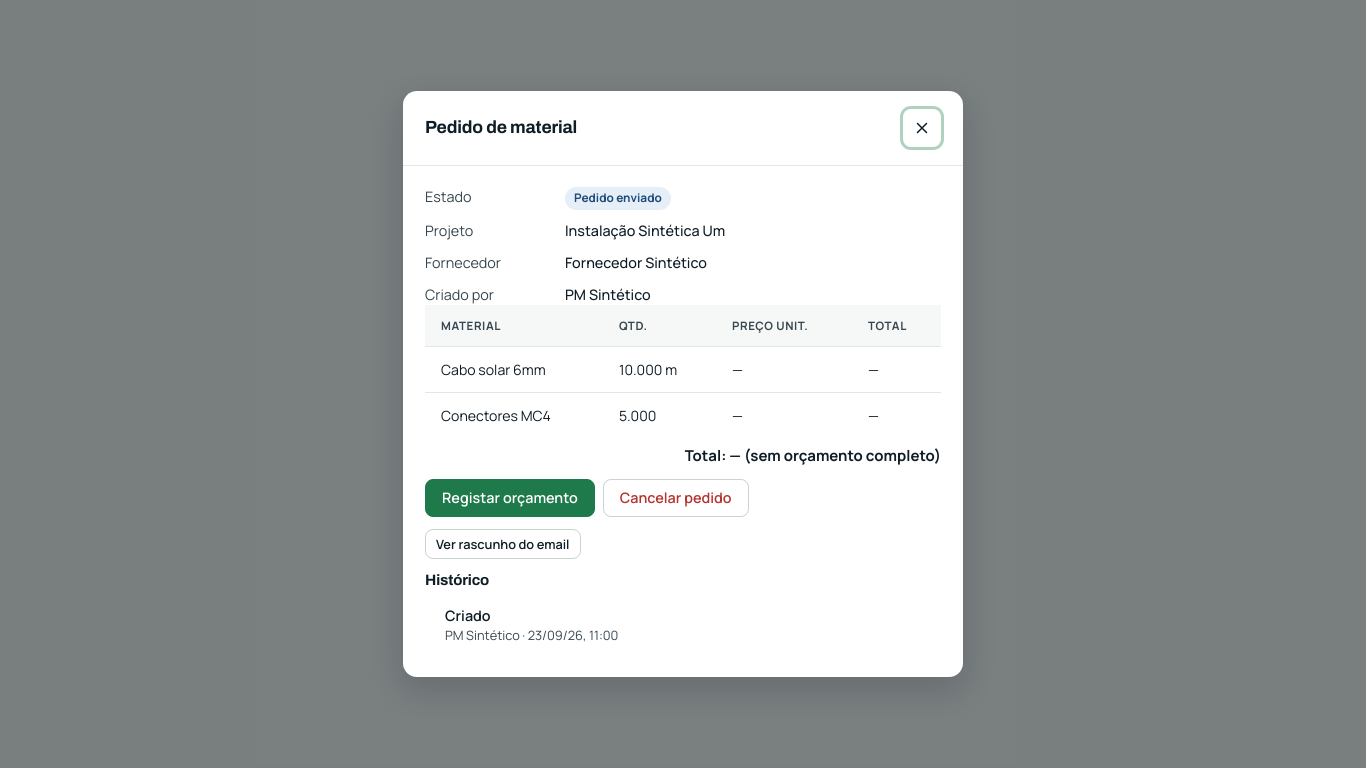
Detalhe do pedido de material › mostra a mensagem do servidor quando a ação é recusada e não muda o estado apresentado
Click the button "Registar orçamento" at x=510, y=498, box x1=425 y1=479 x2=595 y2=517
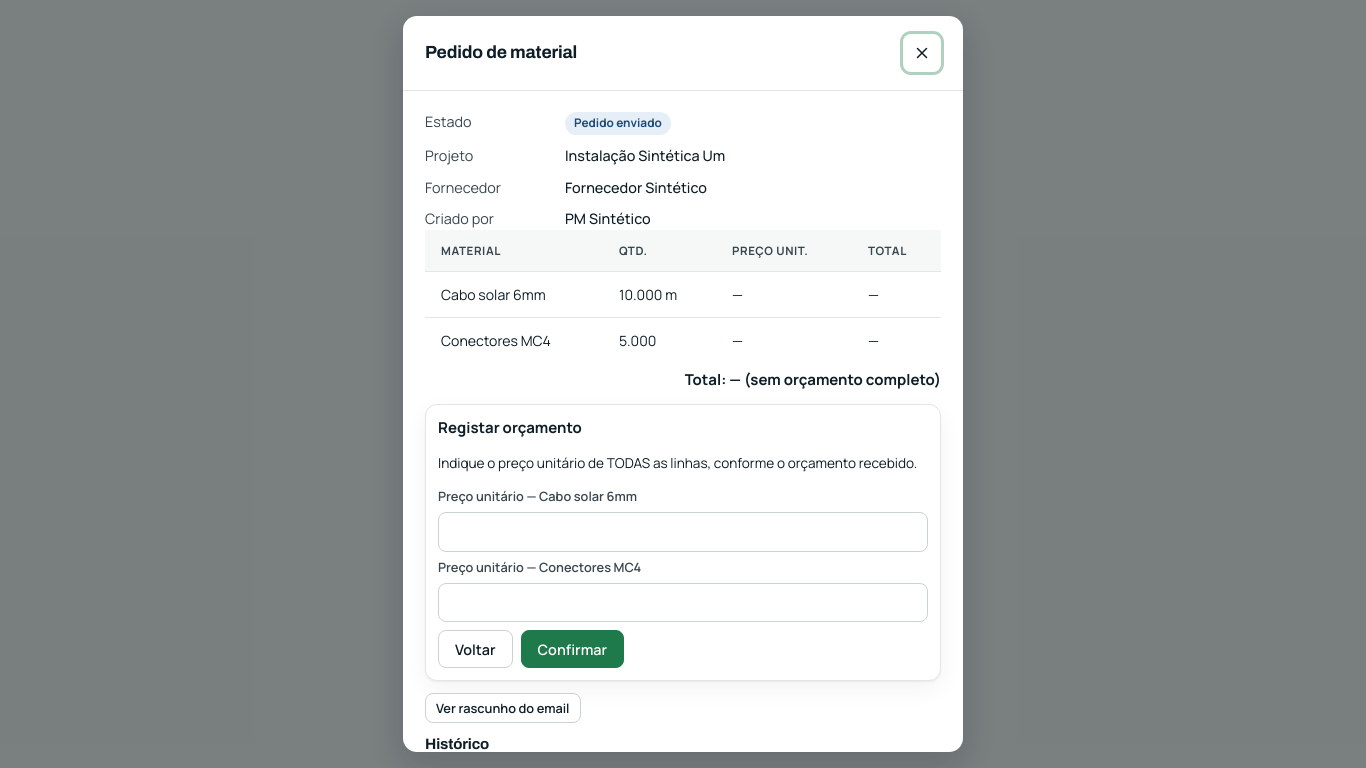
Click the button "Confirmar" at x=572, y=649, box x1=521 y1=630 x2=624 y2=668
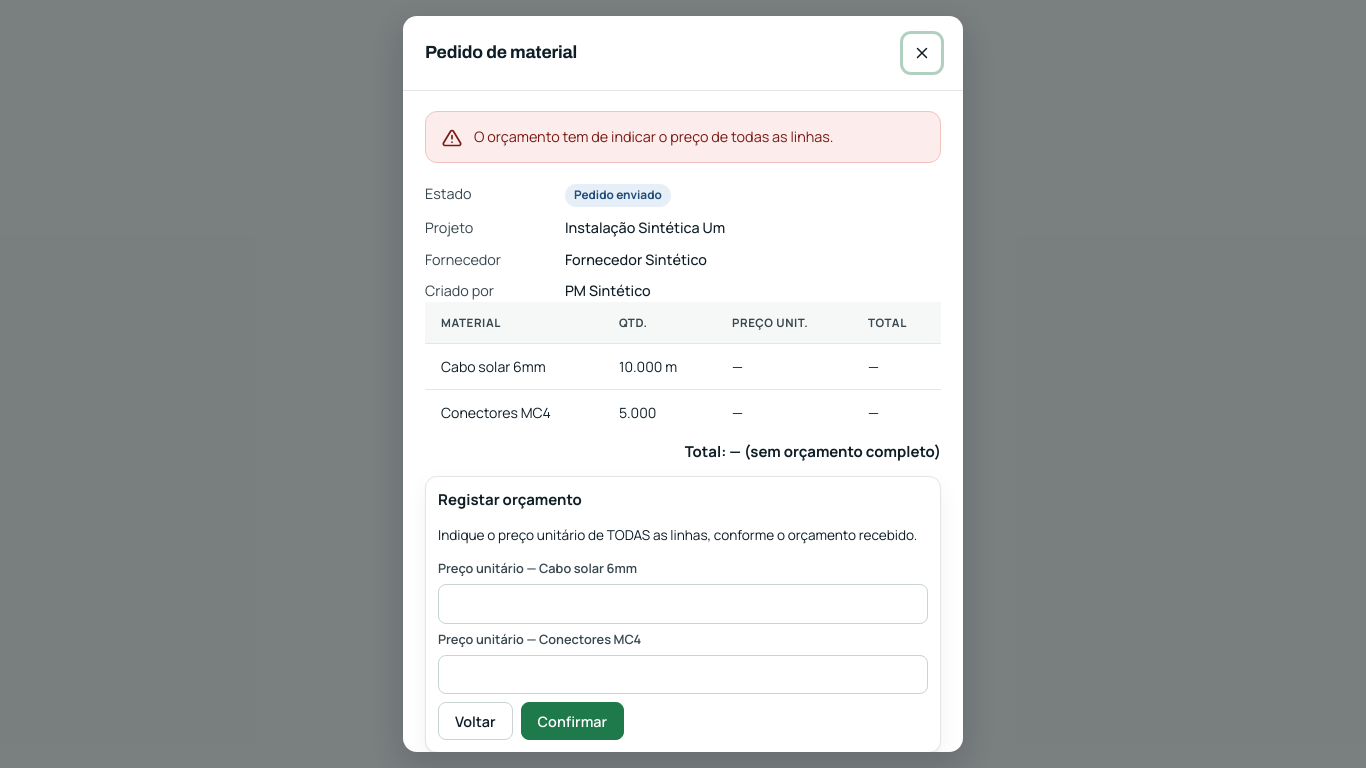
Expected: the text "Pedido enviado" is shown, x1=565 y1=184 x2=671 y2=207
Now the text "O orçamento tem de indicar o preço de todas as linhas." is shown, box x1=474 y1=127 x2=834 y2=146
